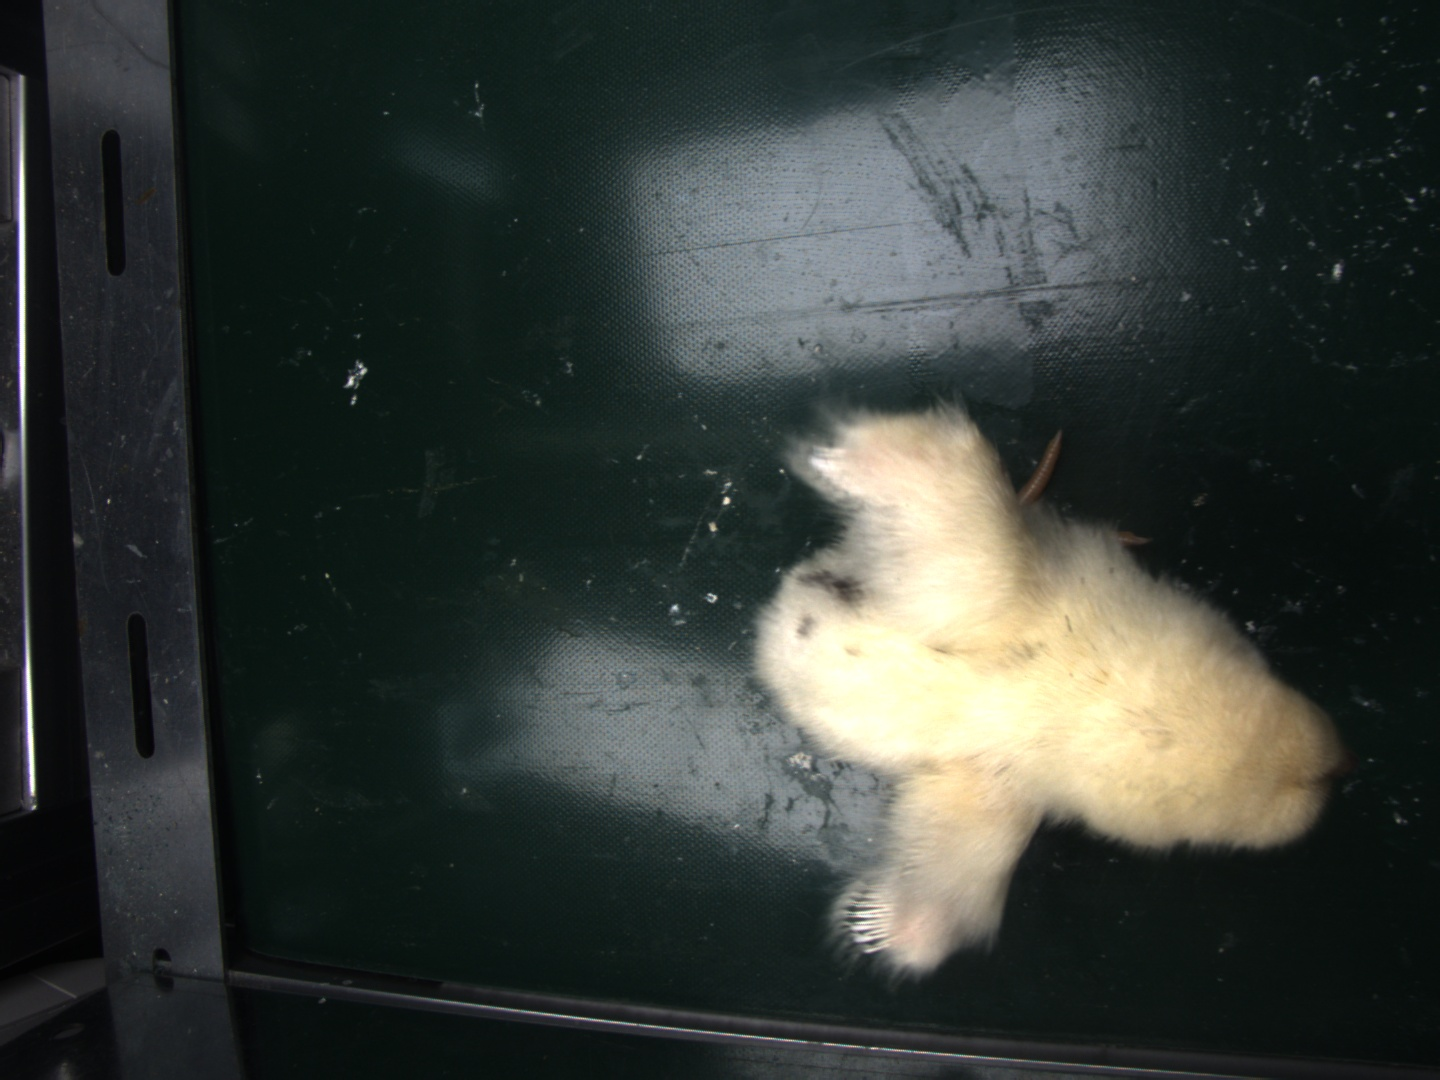male: (848, 887, 895, 956)
